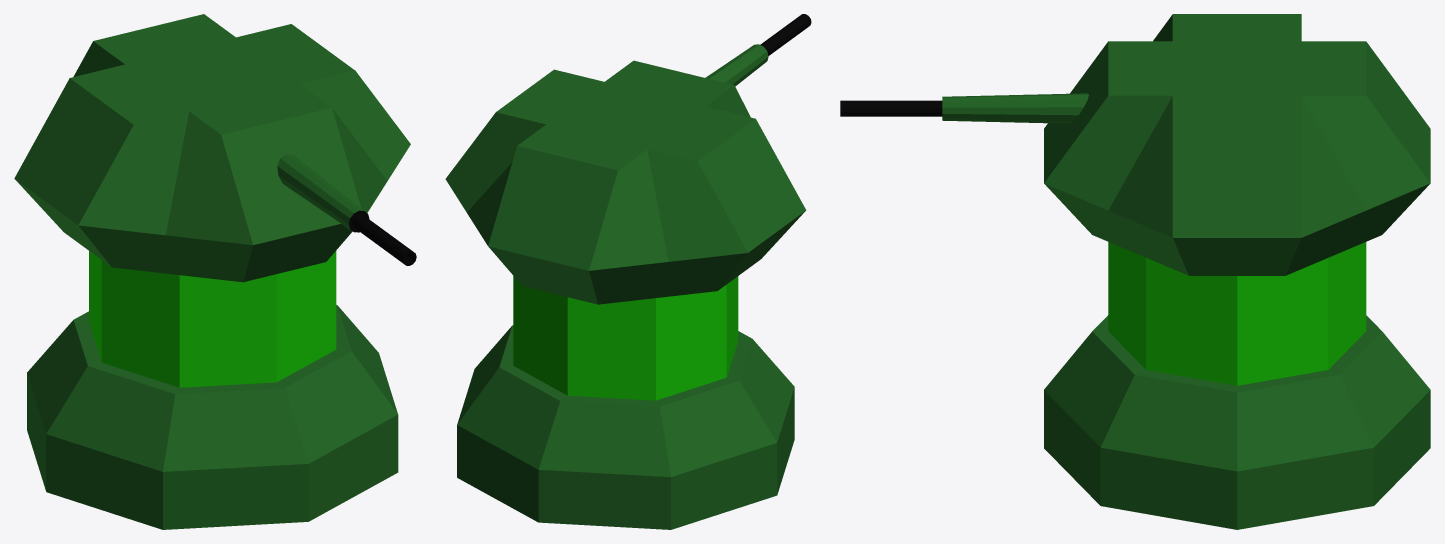
Rendered from Turret.glb.
3 renders of one model, left to right at view 1: azimuth 30°, elevation 25°; view 2: azimuth 150°, elevation 25°; view 3: azimuth 270°, elevation 25°, orthographic. The views are drawn at different scales.
Visible parts, largest first — view 1: BaseTurret; view 2: BaseTurret; view 3: BaseTurret.
Boxes of the visible parts, x1,y1,x2,y2 form: BaseTurret: (14,14,416,529); BaseTurret: (445,14,811,529); BaseTurret: (840,14,1430,529).
Bounding box in the file's own units: 3 × 3.25 × 4.58.
